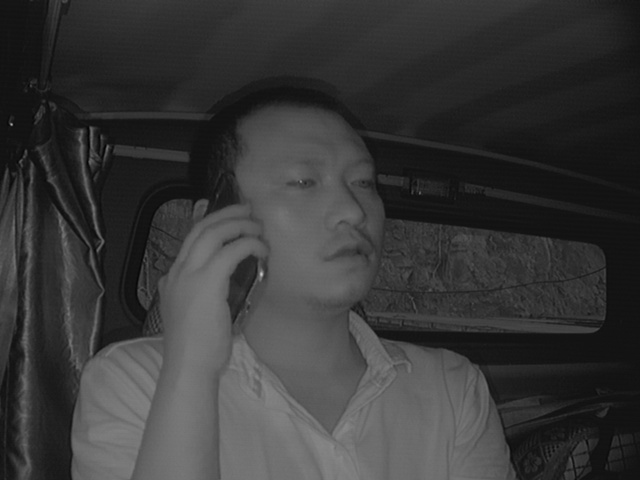hand: (154, 206, 263, 374)
